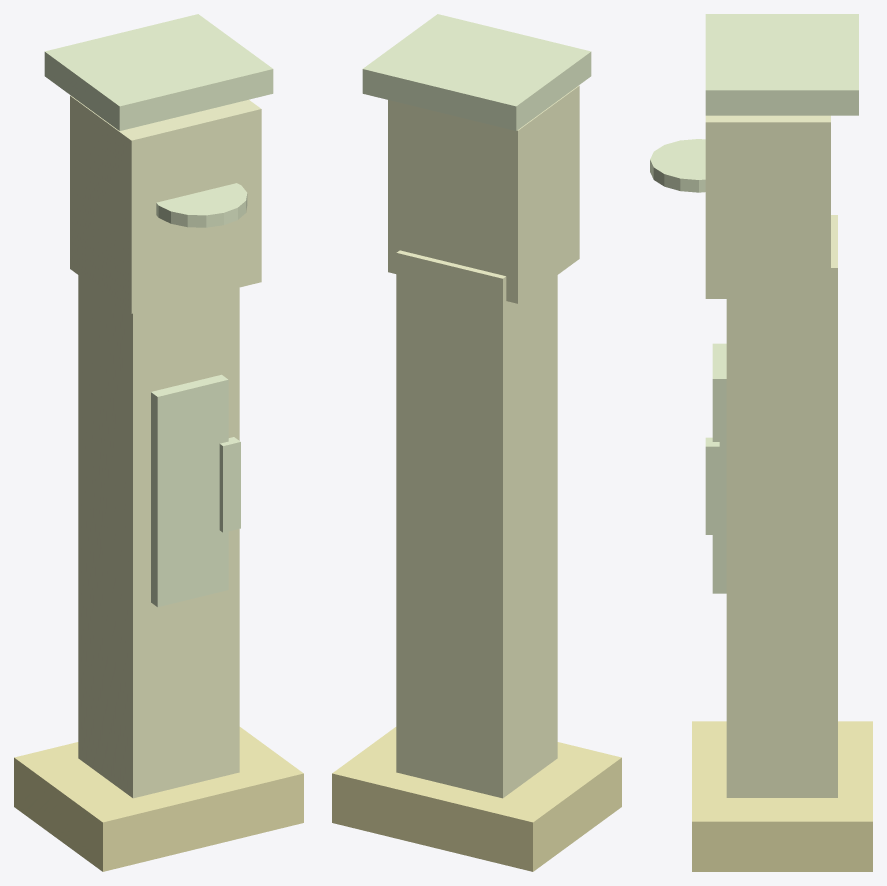
Rendered from furniture_shelter_power_pedestal.glb.
3 renders of one model, left to right at view 1: azimuth 30°, elevation 25°; view 2: azimuth 150°, elevation 25°; view 3: azimuth 270°, elevation 25°, orthographic.
Parts seen in each view (by area): view 1: pedestal_body, meter_head, pad, top_cap, service_door, meter_ring, disconnect_handle; view 2: pedestal_body, meter_head, pad, top_cap; view 3: pedestal_body, meter_head, pad, top_cap, service_door, meter_ring, disconnect_handle.
Boxes of the visible parts, x1,y1,x2,y2 form: pedestal_body: [78, 275, 239, 798]; meter_head: [70, 95, 261, 313]; pad: [14, 727, 303, 871]; top_cap: [44, 14, 273, 130]; service_door: [151, 374, 228, 607]; meter_ring: [156, 183, 247, 227]; disconnect_handle: [219, 437, 240, 532]; pedestal_body: [396, 250, 557, 798]; meter_head: [388, 85, 579, 303]; pad: [332, 727, 621, 871]; top_cap: [362, 14, 591, 130]; pedestal_body: [726, 215, 837, 797]; meter_head: [705, 115, 830, 298]; pad: [692, 721, 872, 871]; top_cap: [705, 14, 858, 115]; service_door: [712, 343, 726, 593]; meter_ring: [650, 139, 705, 192]; disconnect_handle: [705, 437, 719, 534].
Size of the model in its own units: 0.34 by 1.22 by 0.32.
